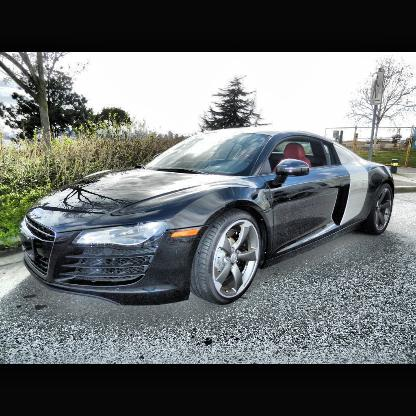Audi R8 Coupe 2012: (22, 126, 397, 307)
